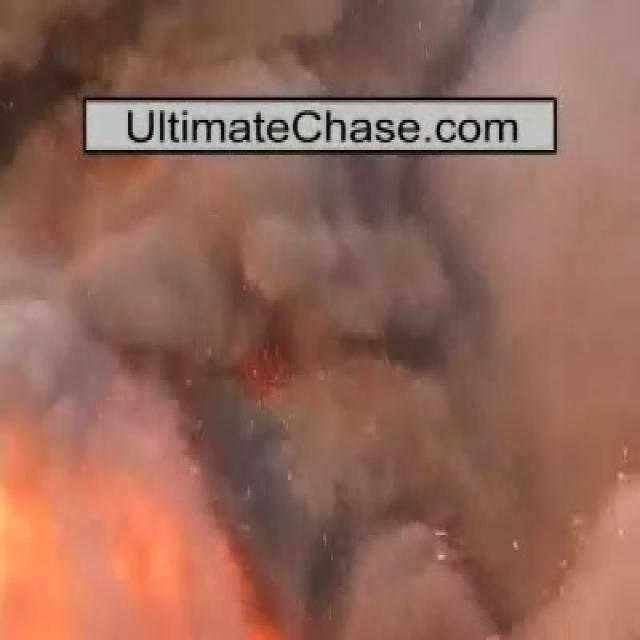Smoke: (29, 166, 564, 580)
